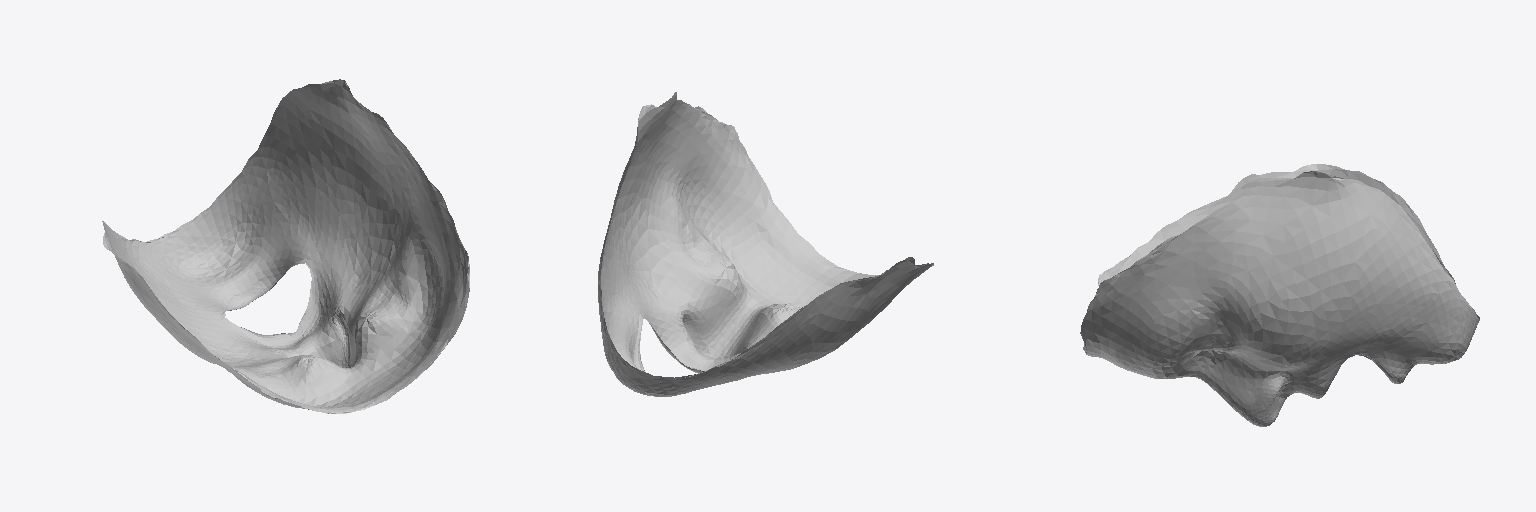
The model's file is face_gab_sfm67.obj.
The picture shows the model from 3 angles: view 1: azimuth 30°, elevation 25°; view 2: azimuth 150°, elevation 25°; view 3: azimuth 270°, elevation 25°; orthographic projection.
Size of the model in its own units: 167 by 164 by 217.